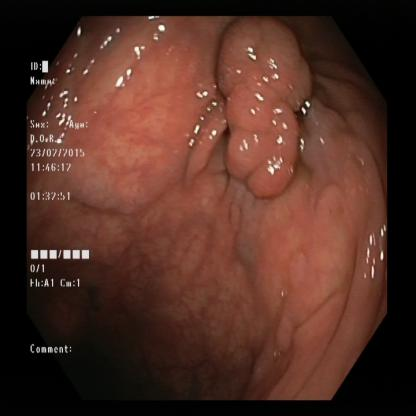Labels: (27, 59, 88, 355)
Polyps: (217, 18, 316, 184)
